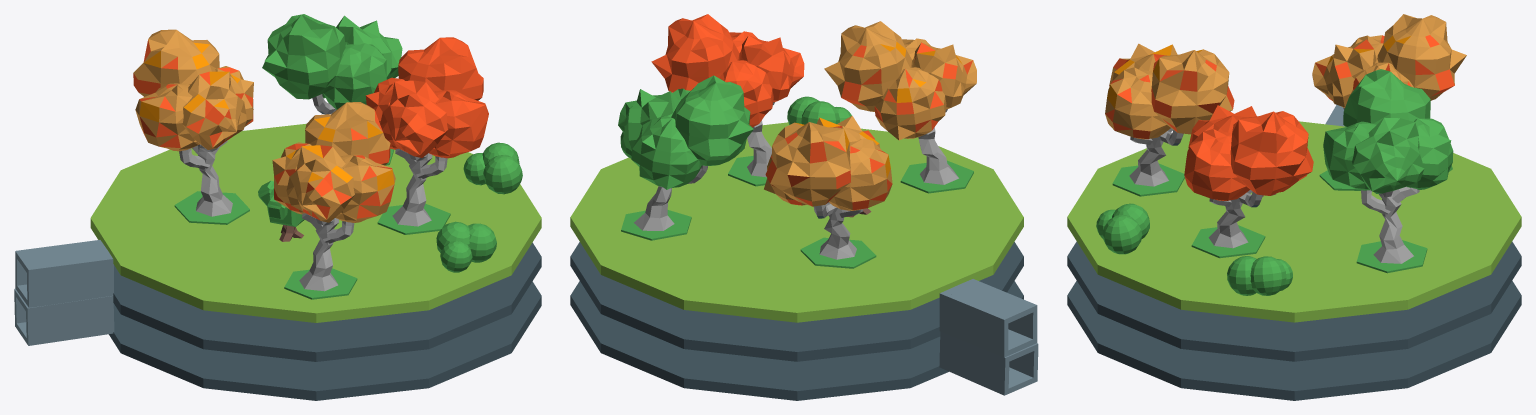
The picture shows the model from 3 angles, left to right: view 1: azimuth 30°, elevation 25°; view 2: azimuth 150°, elevation 25°; view 3: azimuth 270°, elevation 25°; orthographic projection.
Visible parts, largest first — view 1: group_938408721, mesh_251112057, mesh_230980854, mesh_760206169, mesh_1896415287, mesh_880016238, mesh_615071974, mesh_1941355098; view 2: group_938408721, mesh_251112057, mesh_760206169, mesh_230980854, mesh_1941355098, mesh_1696611719, mesh_615071974, mesh_1804098630, mesh_1576415775, mesh_880016238, mesh_1896415287; view 3: group_938408721, mesh_251112057, mesh_230980854, mesh_760206169.
Part boxes in pixels (bbox=[...]): group_938408721: bbox=[133, 14, 522, 299]; mesh_251112057: bbox=[90, 123, 541, 322]; mesh_230980854: bbox=[109, 281, 541, 400]; mesh_760206169: bbox=[113, 242, 541, 361]; mesh_1896415287: bbox=[26, 296, 114, 345]; mesh_880016238: bbox=[27, 264, 113, 307]; mesh_615071974: bbox=[17, 242, 113, 275]; mesh_1941355098: bbox=[15, 240, 101, 290]; group_938408721: bbox=[618, 14, 976, 268]; mesh_251112057: bbox=[570, 122, 1023, 322]; mesh_760206169: bbox=[570, 242, 1023, 361]; mesh_230980854: bbox=[570, 281, 1023, 400]; mesh_1941355098: bbox=[939, 291, 1008, 357]; mesh_1696611719: bbox=[939, 331, 1009, 395]; mesh_615071974: bbox=[944, 279, 1036, 323]; mesh_1804098630: bbox=[939, 362, 1033, 395]; mesh_1576415775: bbox=[939, 326, 1032, 357]; mesh_880016238: bbox=[1008, 305, 1037, 344]; mesh_1896415287: bbox=[1009, 344, 1038, 382]; group_938408721: bbox=[1096, 14, 1466, 295]; mesh_251112057: bbox=[1067, 121, 1521, 322]; mesh_230980854: bbox=[1067, 281, 1521, 400]; mesh_760206169: bbox=[1067, 241, 1521, 361].
Bounding box in the file's own units: 49.42 × 25.47 × 42.
